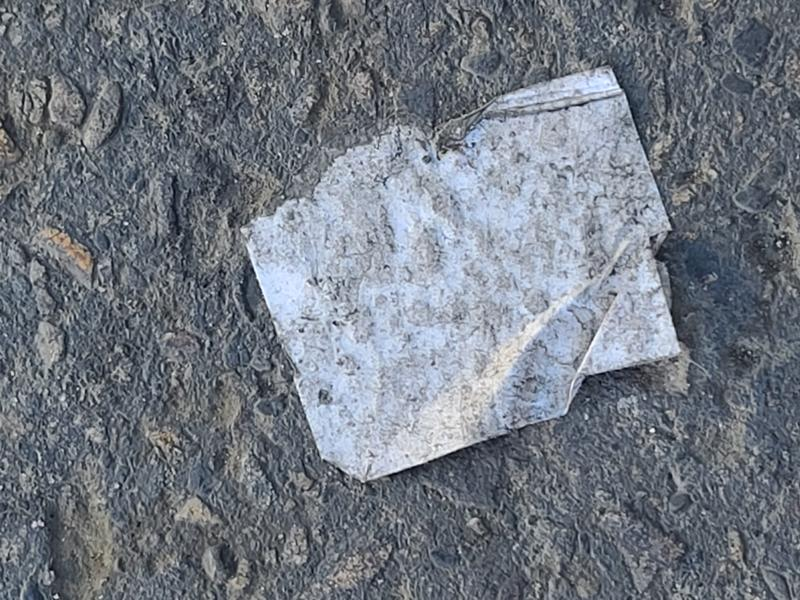papel: (244, 68, 685, 487)
